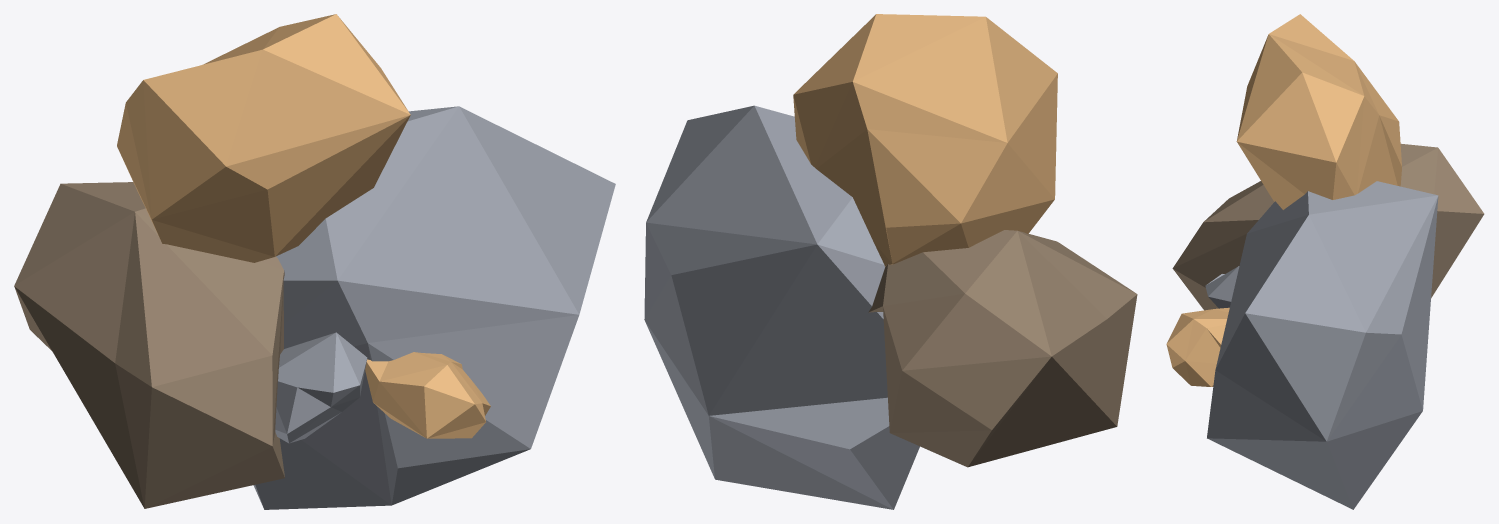
Rendered from collisions.fbx.
The picture shows the model from 3 angles, left to right: view 1: azimuth 30°, elevation 25°; view 2: azimuth 150°, elevation 25°; view 3: azimuth 270°, elevation 25°; orthographic projection. The views are drawn at different scales.
Visible parts, largest first — view 1: Rock 1.020, Rock 2.020, Rock 3.019, Rock 3.020, Rock 1.023; view 2: Rock 1.020, Rock 3.019, Rock 2.020; view 3: Rock 1.020, Rock 3.019, Rock 2.020, Rock 3.020, Rock 1.023.
Boxes of the visible parts, x1,y1,x2,y2 form: Rock 1.020: (253, 106, 615, 509); Rock 2.020: (14, 182, 284, 508); Rock 3.019: (117, 14, 410, 262); Rock 3.020: (365, 352, 490, 438); Rock 1.023: (275, 332, 367, 443); Rock 1.020: (644, 105, 919, 509); Rock 3.019: (793, 14, 1057, 266); Rock 2.020: (868, 230, 1137, 467); Rock 1.020: (1207, 181, 1438, 509); Rock 3.019: (1236, 14, 1401, 209); Rock 2.020: (1172, 143, 1484, 310); Rock 3.020: (1166, 307, 1229, 386); Rock 1.023: (1205, 266, 1239, 308).
Size of the model in its own units: 623 by 618 by 458.
